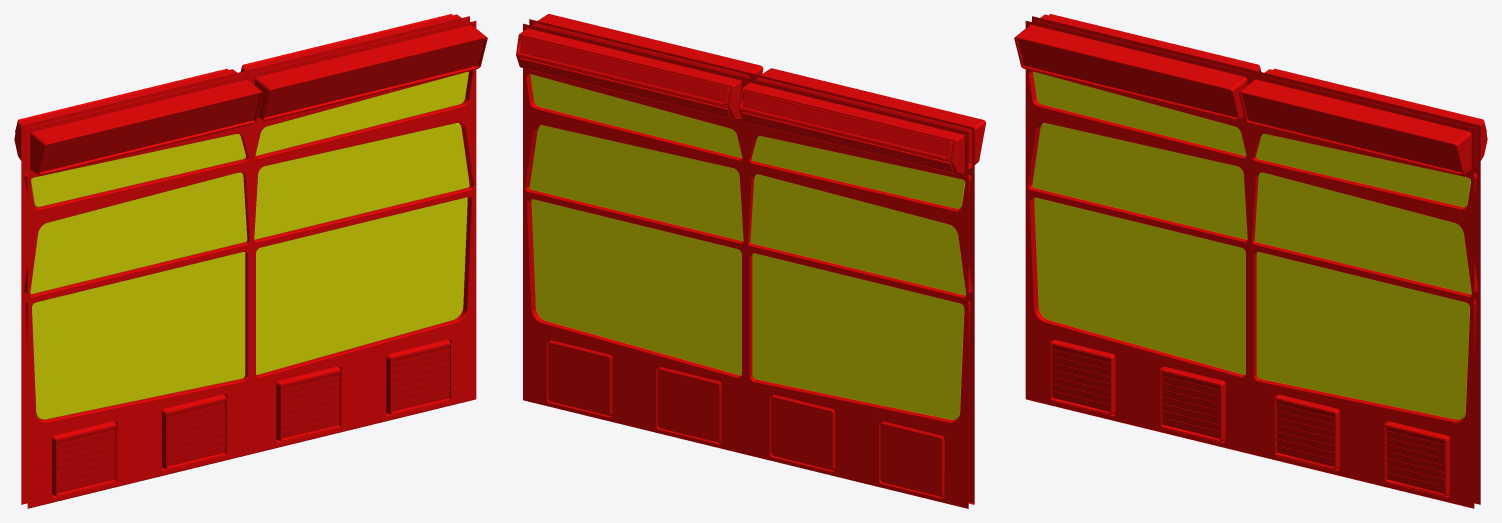
File: Wall_12.fbx
3 renders of one model, left to right at view 1: azimuth 30°, elevation 25°; view 2: azimuth 150°, elevation 25°; view 3: azimuth 330°, elevation 25°, orthographic.
Parts seen in each view (by area): view 1: L3:polySurface1979; view 2: L3:polySurface1979; view 3: L3:polySurface1979.
Part boxes in pixels (<box>): L3:polySurface1979: <box>14,14,487,508</box>; L3:polySurface1979: <box>516,14,985,508</box>; L3:polySurface1979: <box>1014,14,1487,508</box>.
Bounding box in the file's own units: 930 × 751 × 125.
